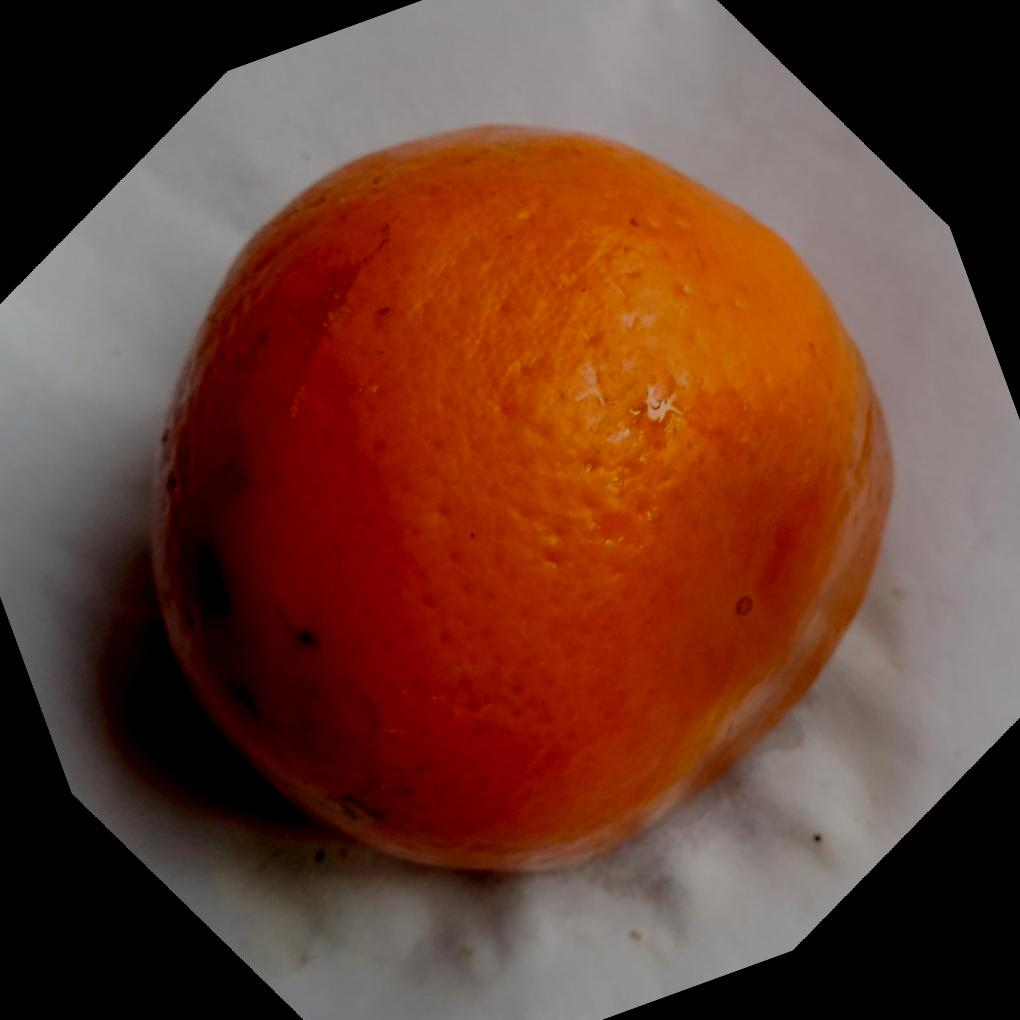FreshOrange: (140, 122, 894, 877)
